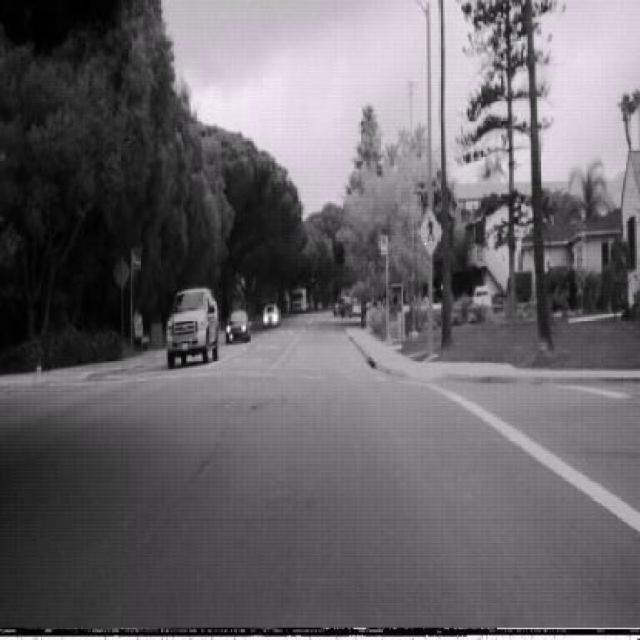pedestrianCrossing: (417, 206, 443, 257)
